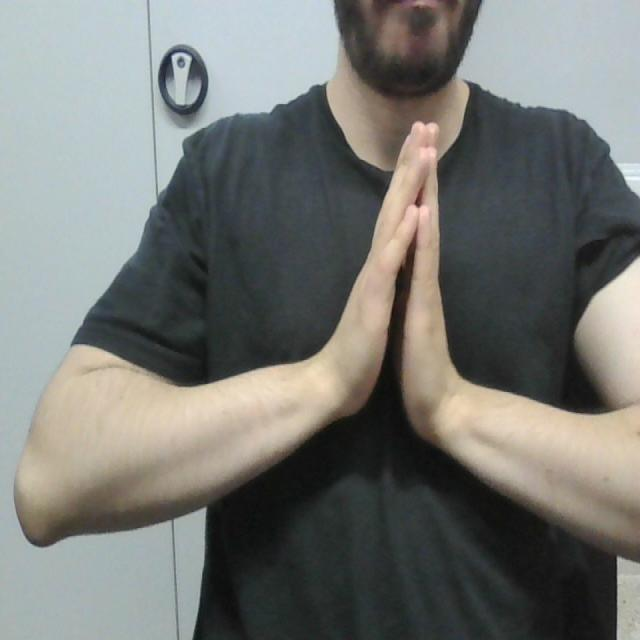Ozur-Dilemek: (328, 115, 458, 455)
